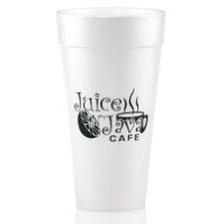paper_cup: (50, 0, 171, 217)
